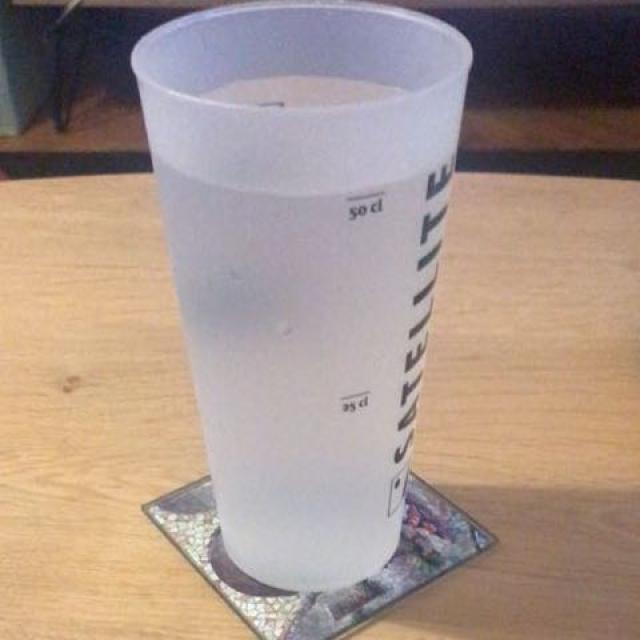water: (155, 46, 449, 586)
